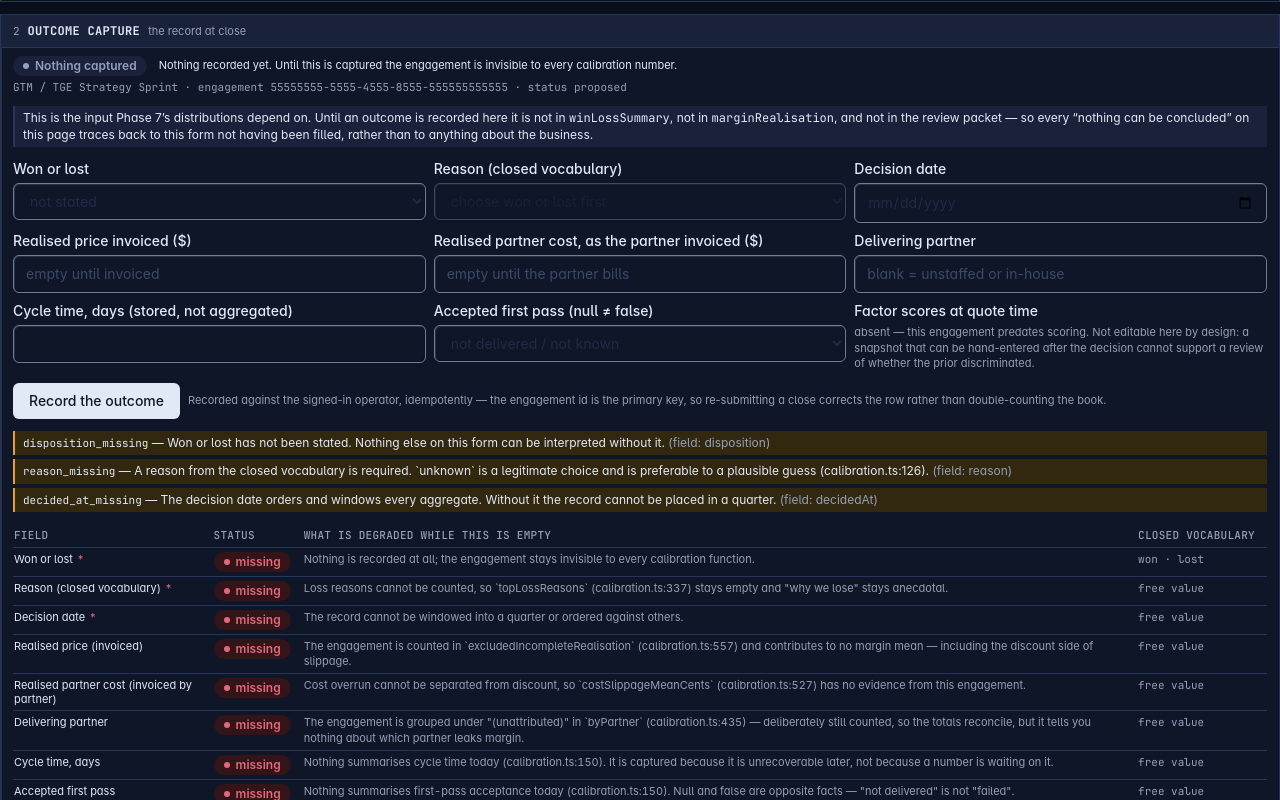
Test: outcome capture › names the missing migration when the store does not exist, and keeps the entry
(page scrolled)
Click the button "Record the outcome": (96, 401) [13, 383, 180, 419]
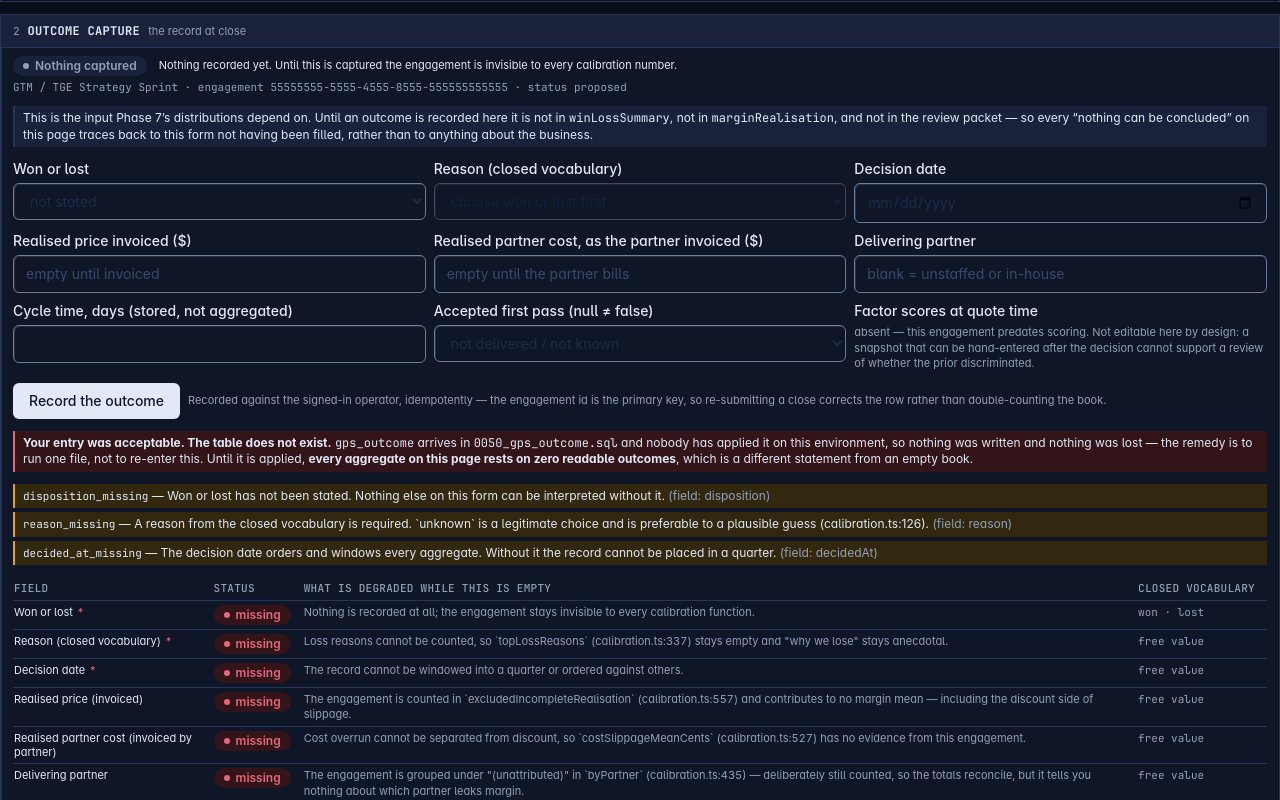
Check: the text "0050_gps_outcome.sql" is shown, box [474, 435, 618, 451]
Check: the text "Your entry was acceptable. The table does not exist." is shown, box [23, 435, 332, 450]
